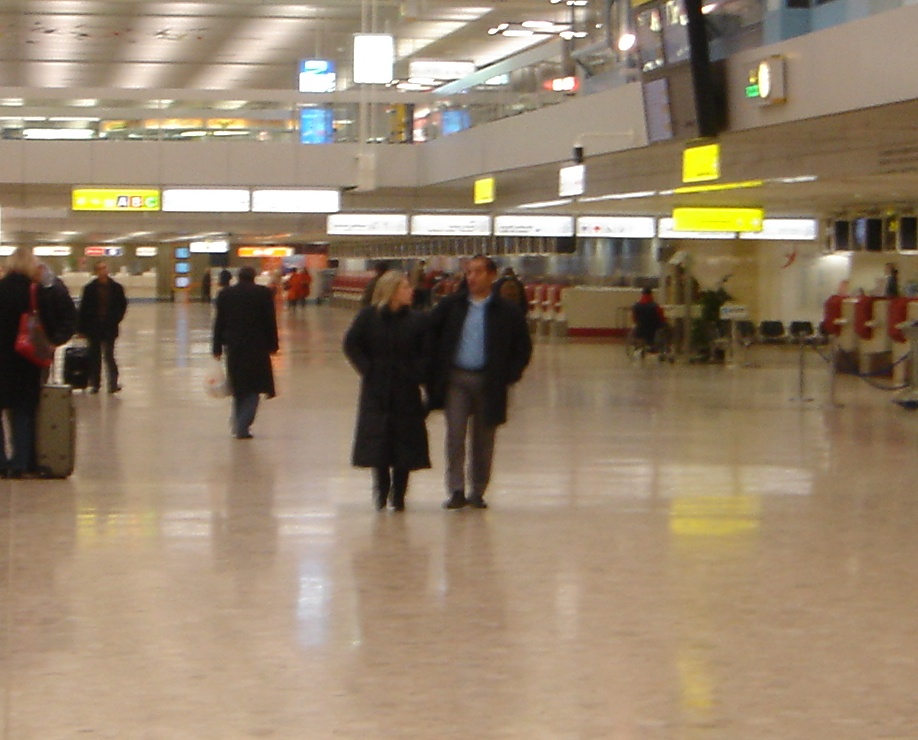person: (435, 255, 523, 512), (347, 270, 431, 508), (217, 265, 275, 436), (80, 258, 122, 392)
